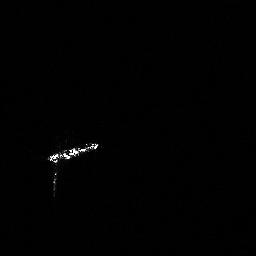ship: (42, 138, 103, 199)
